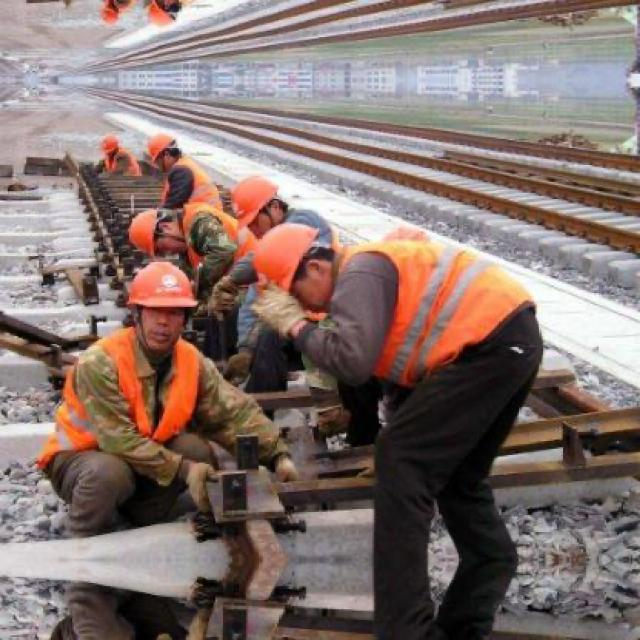helmet: (248, 222, 349, 309), (121, 256, 202, 355), (229, 173, 291, 242), (131, 208, 178, 265), (148, 132, 178, 166), (147, 0, 179, 29), (102, 1, 120, 28), (102, 134, 120, 160)
